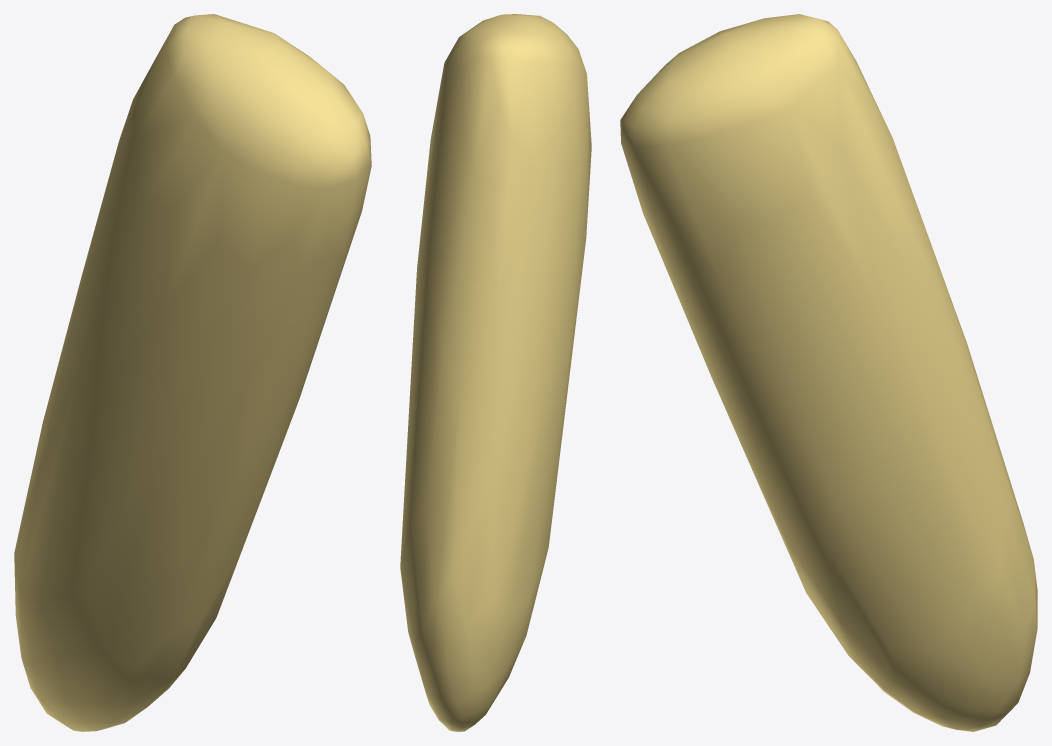
File: fma73567_mm2702.glb
3 views of the same model, side by side, from view 1: azimuth 30°, elevation 25°; view 2: azimuth 150°, elevation 25°; view 3: azimuth 270°, elevation 25° (orthographic). The views are drawn at different scales.
Parts seen in each view (by area): view 1: FMA73567_MM2702; view 2: FMA73567_MM2702; view 3: FMA73567_MM2702.
Boxes of the visible parts, x1,y1,x2,y2 form: FMA73567_MM2702: (14, 14, 371, 731); FMA73567_MM2702: (400, 14, 591, 731); FMA73567_MM2702: (620, 14, 1037, 731).
Bounding box in the file's own units: 0.00319 × 0.0118 × 0.00616.
